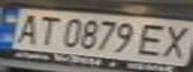0: (57, 16, 84, 48)
7: (96, 18, 121, 53)
8: (78, 16, 100, 52)
9: (112, 19, 142, 55)
A: (6, 11, 45, 45)
E: (133, 20, 175, 58)
T: (30, 12, 63, 46)
X: (154, 21, 193, 61)
